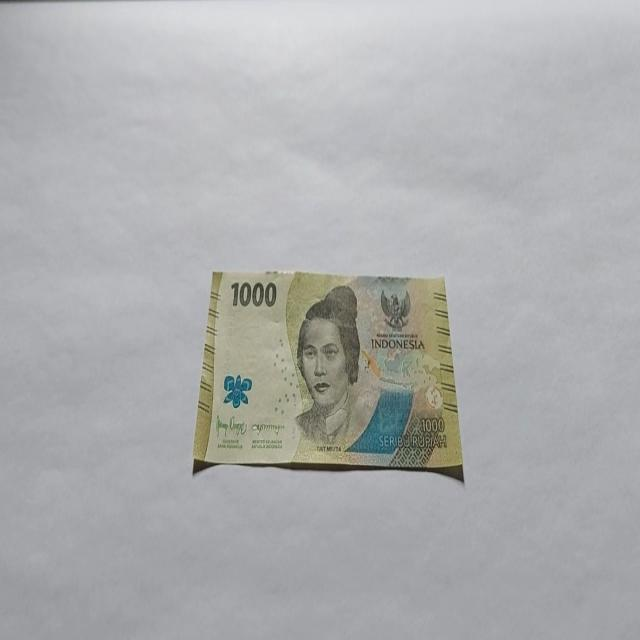seribu rupiah kertas: (192, 268, 464, 480)
